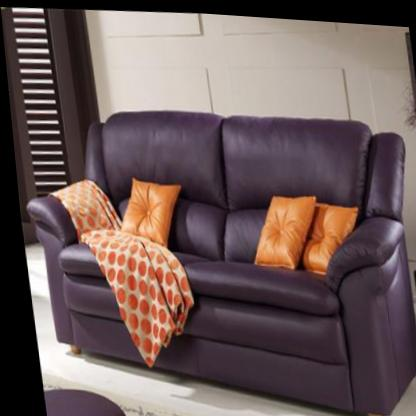Sofa: (9, 90, 416, 416)
